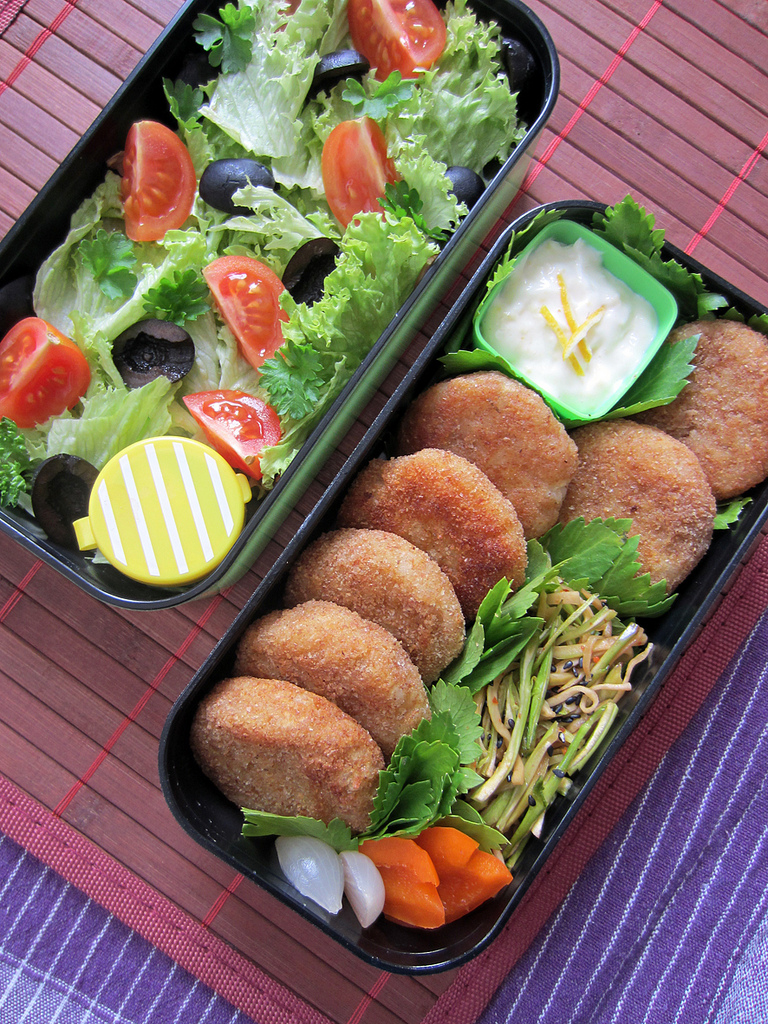chopped lettuce: (1, 10, 526, 535)
meatballs: (567, 405, 709, 586), (199, 682, 380, 818), (360, 460, 525, 595), (431, 369, 576, 514), (282, 604, 431, 732), (326, 521, 458, 654), (676, 304, 768, 471)
